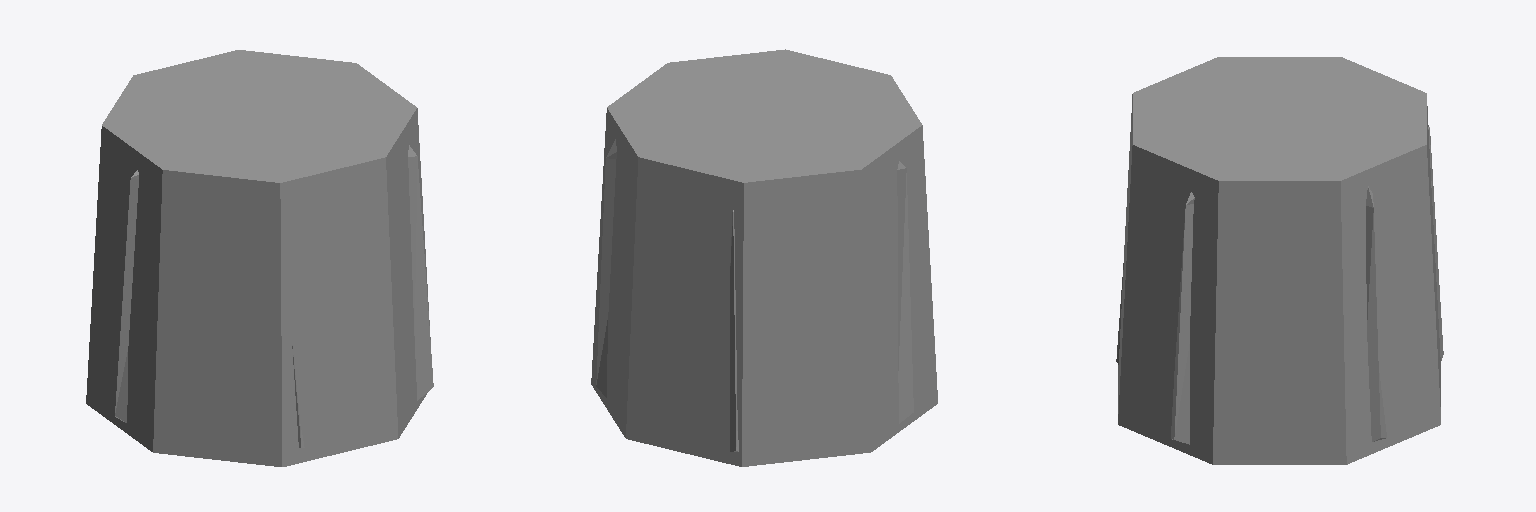
Rendered from basic_stool.obj.
3 renders of one model, left to right at view 1: azimuth 30°, elevation 25°; view 2: azimuth 150°, elevation 25°; view 3: azimuth 270°, elevation 25°, orthographic.
Visible parts, largest first — view 1: bamboo_stool_coll, bamboo_stool; view 2: bamboo_stool_coll, bamboo_stool; view 3: bamboo_stool_coll, bamboo_stool.
Boxes of the visible parts, <box> form: bamboo_stool_coll: <box>86,50,430,466</box>; bamboo_stool: <box>115,145,433,447</box>; bamboo_stool_coll: <box>591,49,937,466</box>; bamboo_stool: <box>596,139,913,451</box>; bamboo_stool_coll: <box>1118,57,1440,464</box>; bamboo_stool: <box>1116,127,1443,444</box>.
Bounding box in the file's own units: 1.32 × 1.22 × 1.31.